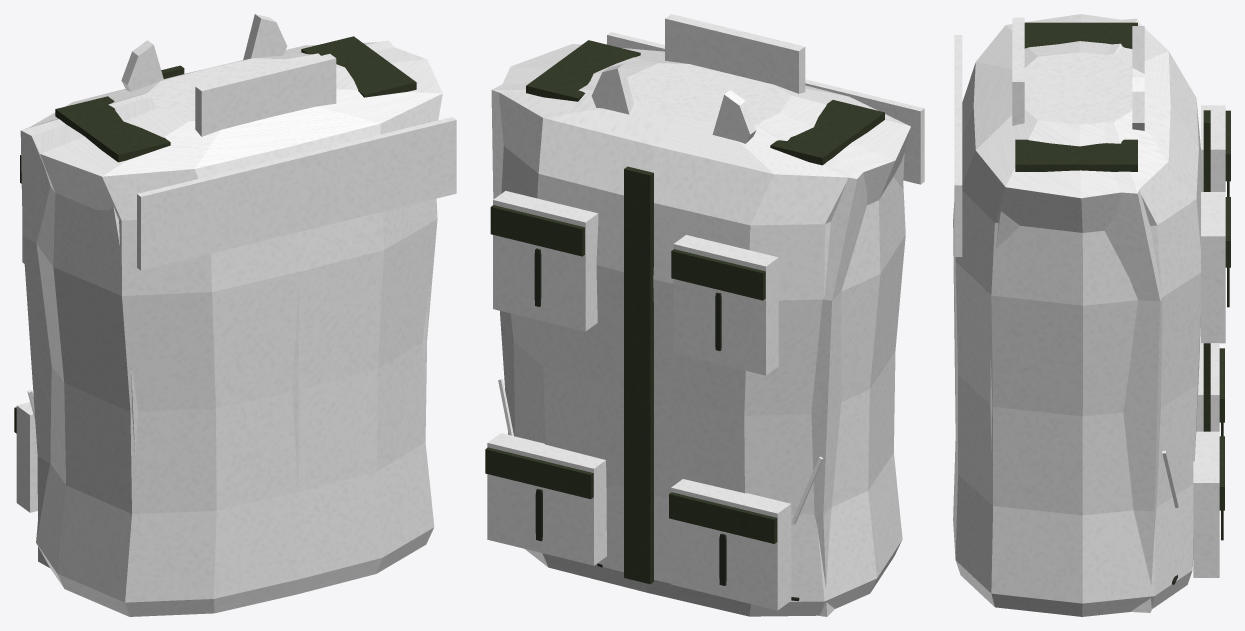
The model's file is jacket_m65.glb.
3 views of the same model, side by side, from view 1: azimuth 30°, elevation 25°; view 2: azimuth 150°, elevation 25°; view 3: azimuth 270°, elevation 25° (orthographic). The views are drawn at different scales.
Parts seen in each view (by area): view 1: jacket_m65_torso_LOD0_RAID_cloth.001, jacket_m65_torso_LOD1_RAID_cloth.001, jacket_m65_torso_LOD0_RAID_reinforce.001, jacket_m65_torso_LOD1_RAID_reinforce.001; view 2: jacket_m65_torso_LOD0_RAID_cloth.001, jacket_m65_torso_LOD1_RAID_cloth.001, jacket_m65_torso_LOD0_RAID_reinforce.001, jacket_m65_torso_LOD1_RAID_reinforce.001, jacket_m65_torso_LOD0_RAID_seam.001; view 3: jacket_m65_torso_LOD0_RAID_cloth.001, jacket_m65_torso_LOD1_RAID_cloth.001, jacket_m65_torso_LOD0_RAID_reinforce.001, jacket_m65_torso_LOD1_RAID_reinforce.001.
Boxes of the visible parts, box(x1,y1,x2,y2) form: jacket_m65_torso_LOD0_RAID_cloth.001: box(16, 14, 456, 616); jacket_m65_torso_LOD1_RAID_cloth.001: box(16, 40, 456, 567); jacket_m65_torso_LOD0_RAID_reinforce.001: box(14, 37, 411, 429); jacket_m65_torso_LOD1_RAID_reinforce.001: box(14, 36, 416, 433); jacket_m65_torso_LOD0_RAID_cloth.001: box(489, 17, 924, 616); jacket_m65_torso_LOD1_RAID_cloth.001: box(487, 14, 924, 616); jacket_m65_torso_LOD0_RAID_reinforce.001: box(485, 41, 879, 581); jacket_m65_torso_LOD1_RAID_reinforce.001: box(485, 40, 884, 584); jacket_m65_torso_LOD0_RAID_seam.001: box(534, 248, 799, 601); jacket_m65_torso_LOD0_RAID_cloth.001: box(953, 14, 1225, 616); jacket_m65_torso_LOD1_RAID_cloth.001: box(953, 17, 1225, 612); jacket_m65_torso_LOD0_RAID_reinforce.001: box(1015, 22, 1230, 507); jacket_m65_torso_LOD1_RAID_reinforce.001: box(1015, 22, 1230, 510).
Bounding box in the file's own units: 0.4946 × 0.6095 × 0.3152.
3 materials, 3 textured.
